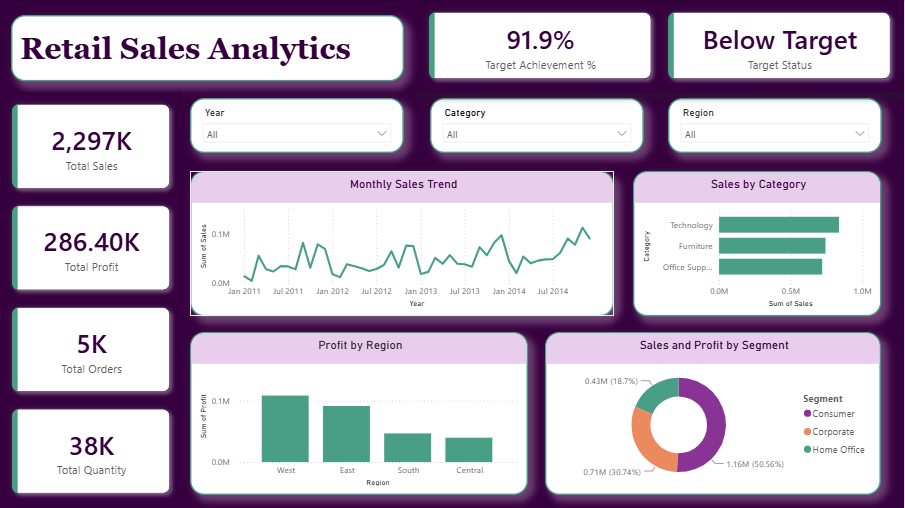

This screenshot's page, from the dashboard's own definition file:
{"tool":"powerbi","page":{"name":"Page 1","canvas":[1280,720],"ordinal":0},"visuals":[{"type":"textbox","box":[14.9,20.9,556.7,94],"z":0},{"type":"shape","box":[1052.2,0,197,114.9],"z":1000},{"type":"cardVisual","fields":{"Data":["Superstore_Cleaned.Total Sales","Superstore_Cleaned.Total Profit","Superstore_Cleaned.Total Orders","Superstore_Cleaned.Total Quantity"]},"box":[0,129.9,258.2,586.6],"z":2000},{"type":"clusteredBarChart","title":"Sales by Category","fields":{"Category":["Superstore_Cleaned.Category"],"Y":["Sum(Superstore_Cleaned.Sales)"]},"box":[897,241.8,352.2,206],"z":3000},{"type":"donutChart","title":"Sales and Profit by Segment","fields":{"Category":["Superstore_Cleaned.Segment"],"Y":["Sum(Superstore_Cleaned.Sales)"]},"box":[773.1,470.1,476.1,231.3],"z":4000},{"type":"clusteredColumnChart","title":"Profit by Region","fields":{"Category":["Superstore_Cleaned.Region"],"Y":["Sum(Superstore_Cleaned.Profit)"]},"box":[268.7,470.1,479.1,231.3],"z":5000},{"type":"lineChart","title":"Monthly Sales Trend","fields":{"Y":["Sum(Superstore_Cleaned.Sales)"],"Category":["Superstore_Cleaned.Order_Year-Month.Variation.Date Hierarchy.Year","Superstore_Cleaned.Order_Year-Month.Variation.Date Hierarchy.Month"]},"box":[268.7,241.8,601.5,206],"z":6000},{"type":"slicer","fields":{"Values":["Superstore_Cleaned.Order_Date.Variation.Date Hierarchy.Year"]},"box":[268.7,138.8,303,77.6],"z":7000},{"type":"slicer","fields":{"Values":["Superstore_Cleaned.Category"]},"box":[609,138.8,303,77.6],"z":8000},{"type":"slicer","fields":{"Values":["Superstore_Cleaned.Region"]},"box":[946.3,138.8,303,77.6],"z":9000},{"type":"cardVisual","fields":{"Data":["Superstore_Cleaned.Target Achievement %","Superstore_Cleaned.Target Status"]},"box":[591,0,689.6,129.9],"z":10000}]}

Visuals, with their boxes in screenshot pixels (x1, y1, x2, y2), scaled from the page's 1280x720 canvas onto the 905x508 screenshot:
textbox: l=11, t=15, r=404, b=81
shape: l=744, t=0, r=883, b=81
cardVisual - Superstore_Cleaned.Total Sales x Superstore_Cleaned.Total Profit: l=0, t=92, r=183, b=506
"Sales by Category" clusteredBarChart: l=634, t=171, r=883, b=316
"Sales and Profit by Segment" donutChart: l=547, t=332, r=883, b=495
"Profit by Region" clusteredColumnChart: l=190, t=332, r=529, b=495
"Monthly Sales Trend" lineChart: l=190, t=171, r=615, b=316
slicer - Superstore_Cleaned.Order_Date.Variation.Date Hierarchy.Year: l=190, t=98, r=404, b=153
slicer - Superstore_Cleaned.Category: l=431, t=98, r=645, b=153
slicer - Superstore_Cleaned.Region: l=669, t=98, r=883, b=153
cardVisual - Superstore_Cleaned.Target Achievement % x Superstore_Cleaned.Target Status: l=418, t=0, r=904, b=92
